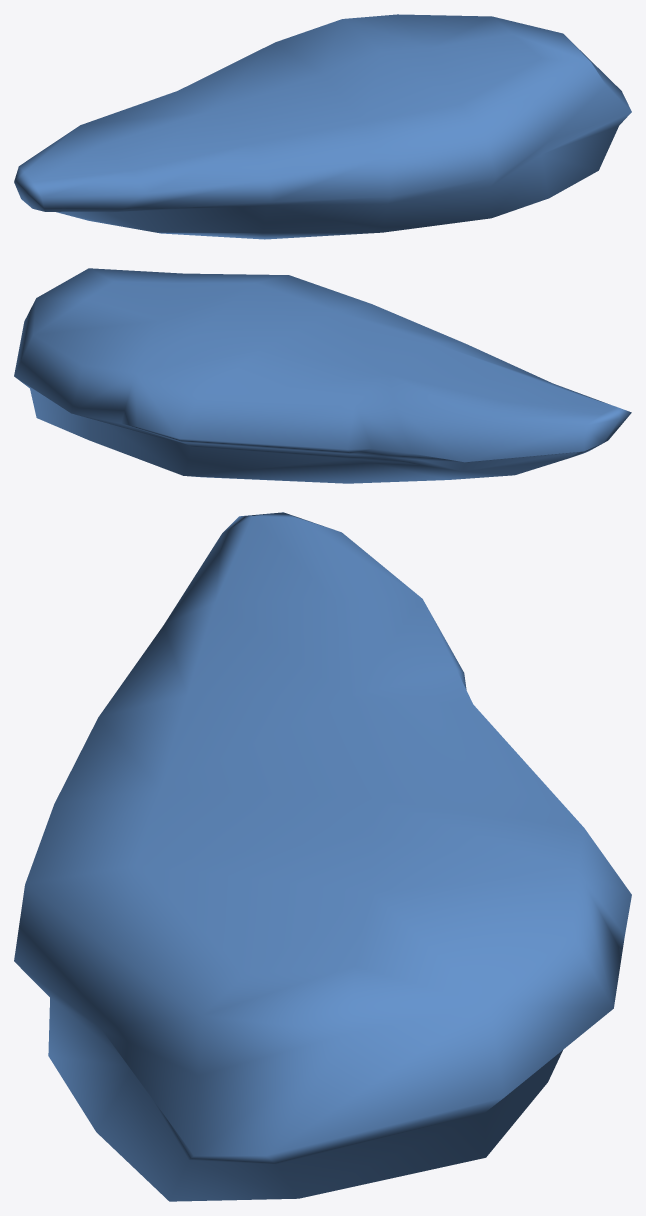
Rendered from Rock_01.fbx.
The picture shows the model from 3 angles, top to bottom: view 1: azimuth 30°, elevation 25°; view 2: azimuth 150°, elevation 25°; view 3: azimuth 270°, elevation 25°; orthographic projection. The views are drawn at different scales.
Parts seen in each view (by area): view 1: Rock_01; view 2: Rock_01; view 3: Rock_01.
Part boxes in pixels (bbox=[...]): Rock_01: bbox=[14, 14, 631, 239]; Rock_01: bbox=[14, 268, 631, 483]; Rock_01: bbox=[14, 512, 631, 1201].
Size of the model in its own units: 546 by 108 by 261.
